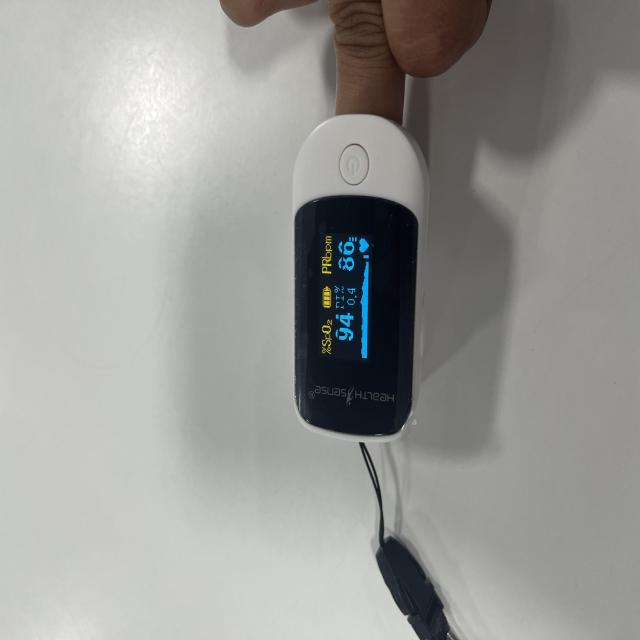spo2: (291, 115, 429, 443)
